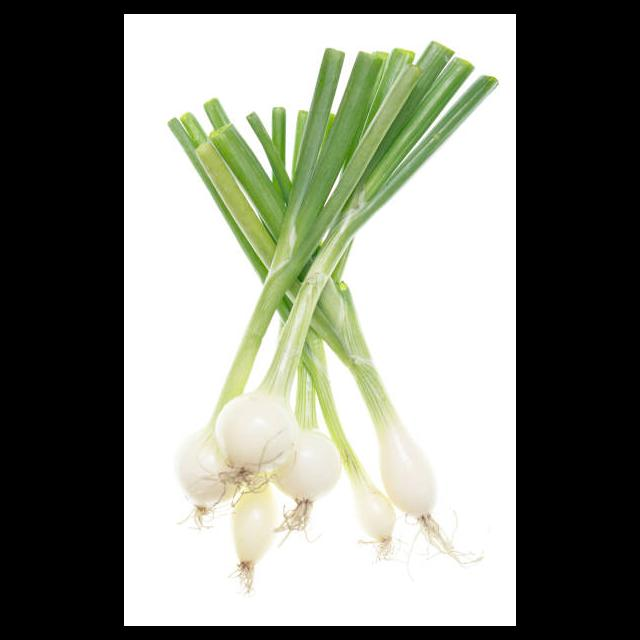green_onion: (149, 37, 498, 359)
